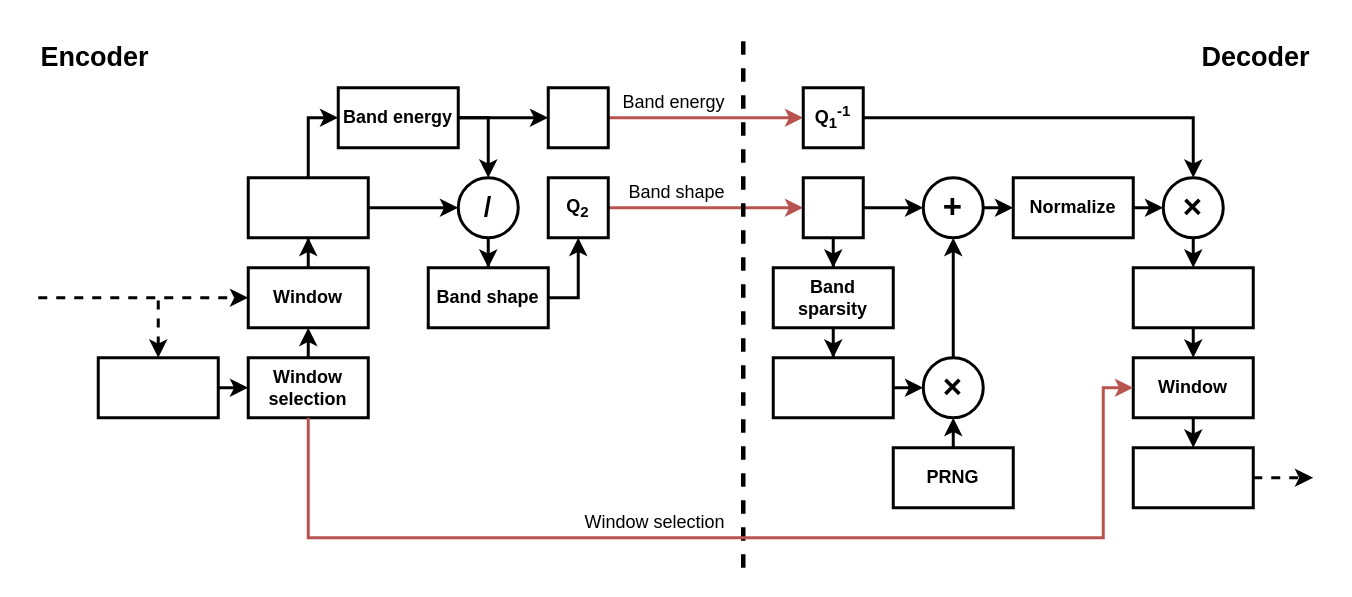
Image size: 1352x597. Some labels were removed from this diagram. The shapes that lost their labels are listed below. From the top down, each one's centre as x and y in pixels, then its label:
At point (577, 117): "Q 1".
At point (307, 207): "MDCT".
At point (832, 207): "Q 2 -1".
At point (1192, 297): "MDCT -1".
At point (157, 387): "Transient detection".
At point (832, 387): "Noise mix".
At point (1192, 477): "Sample accumulation".
